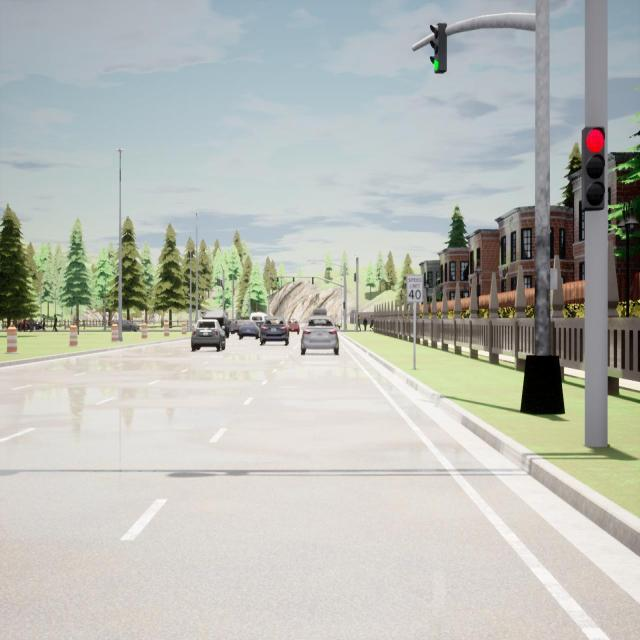Pedestrian: (356, 315, 362, 331), (370, 315, 375, 332), (53, 314, 58, 331), (29, 317, 34, 332), (363, 317, 368, 331), (41, 315, 45, 332), (24, 318, 27, 332)
Traffic_Signs: (407, 275, 422, 302)
Vehicle: (301, 316, 340, 355), (192, 319, 226, 352), (260, 318, 290, 346), (202, 310, 230, 338), (239, 321, 260, 342), (18, 318, 44, 331), (122, 319, 140, 332), (287, 318, 300, 336), (228, 319, 240, 335), (251, 312, 267, 320), (313, 308, 327, 315)
traffic_light: (582, 127, 604, 210), (429, 23, 446, 74), (276, 278, 279, 284), (354, 273, 356, 282), (292, 278, 294, 284), (312, 278, 314, 284), (344, 302, 345, 310)
